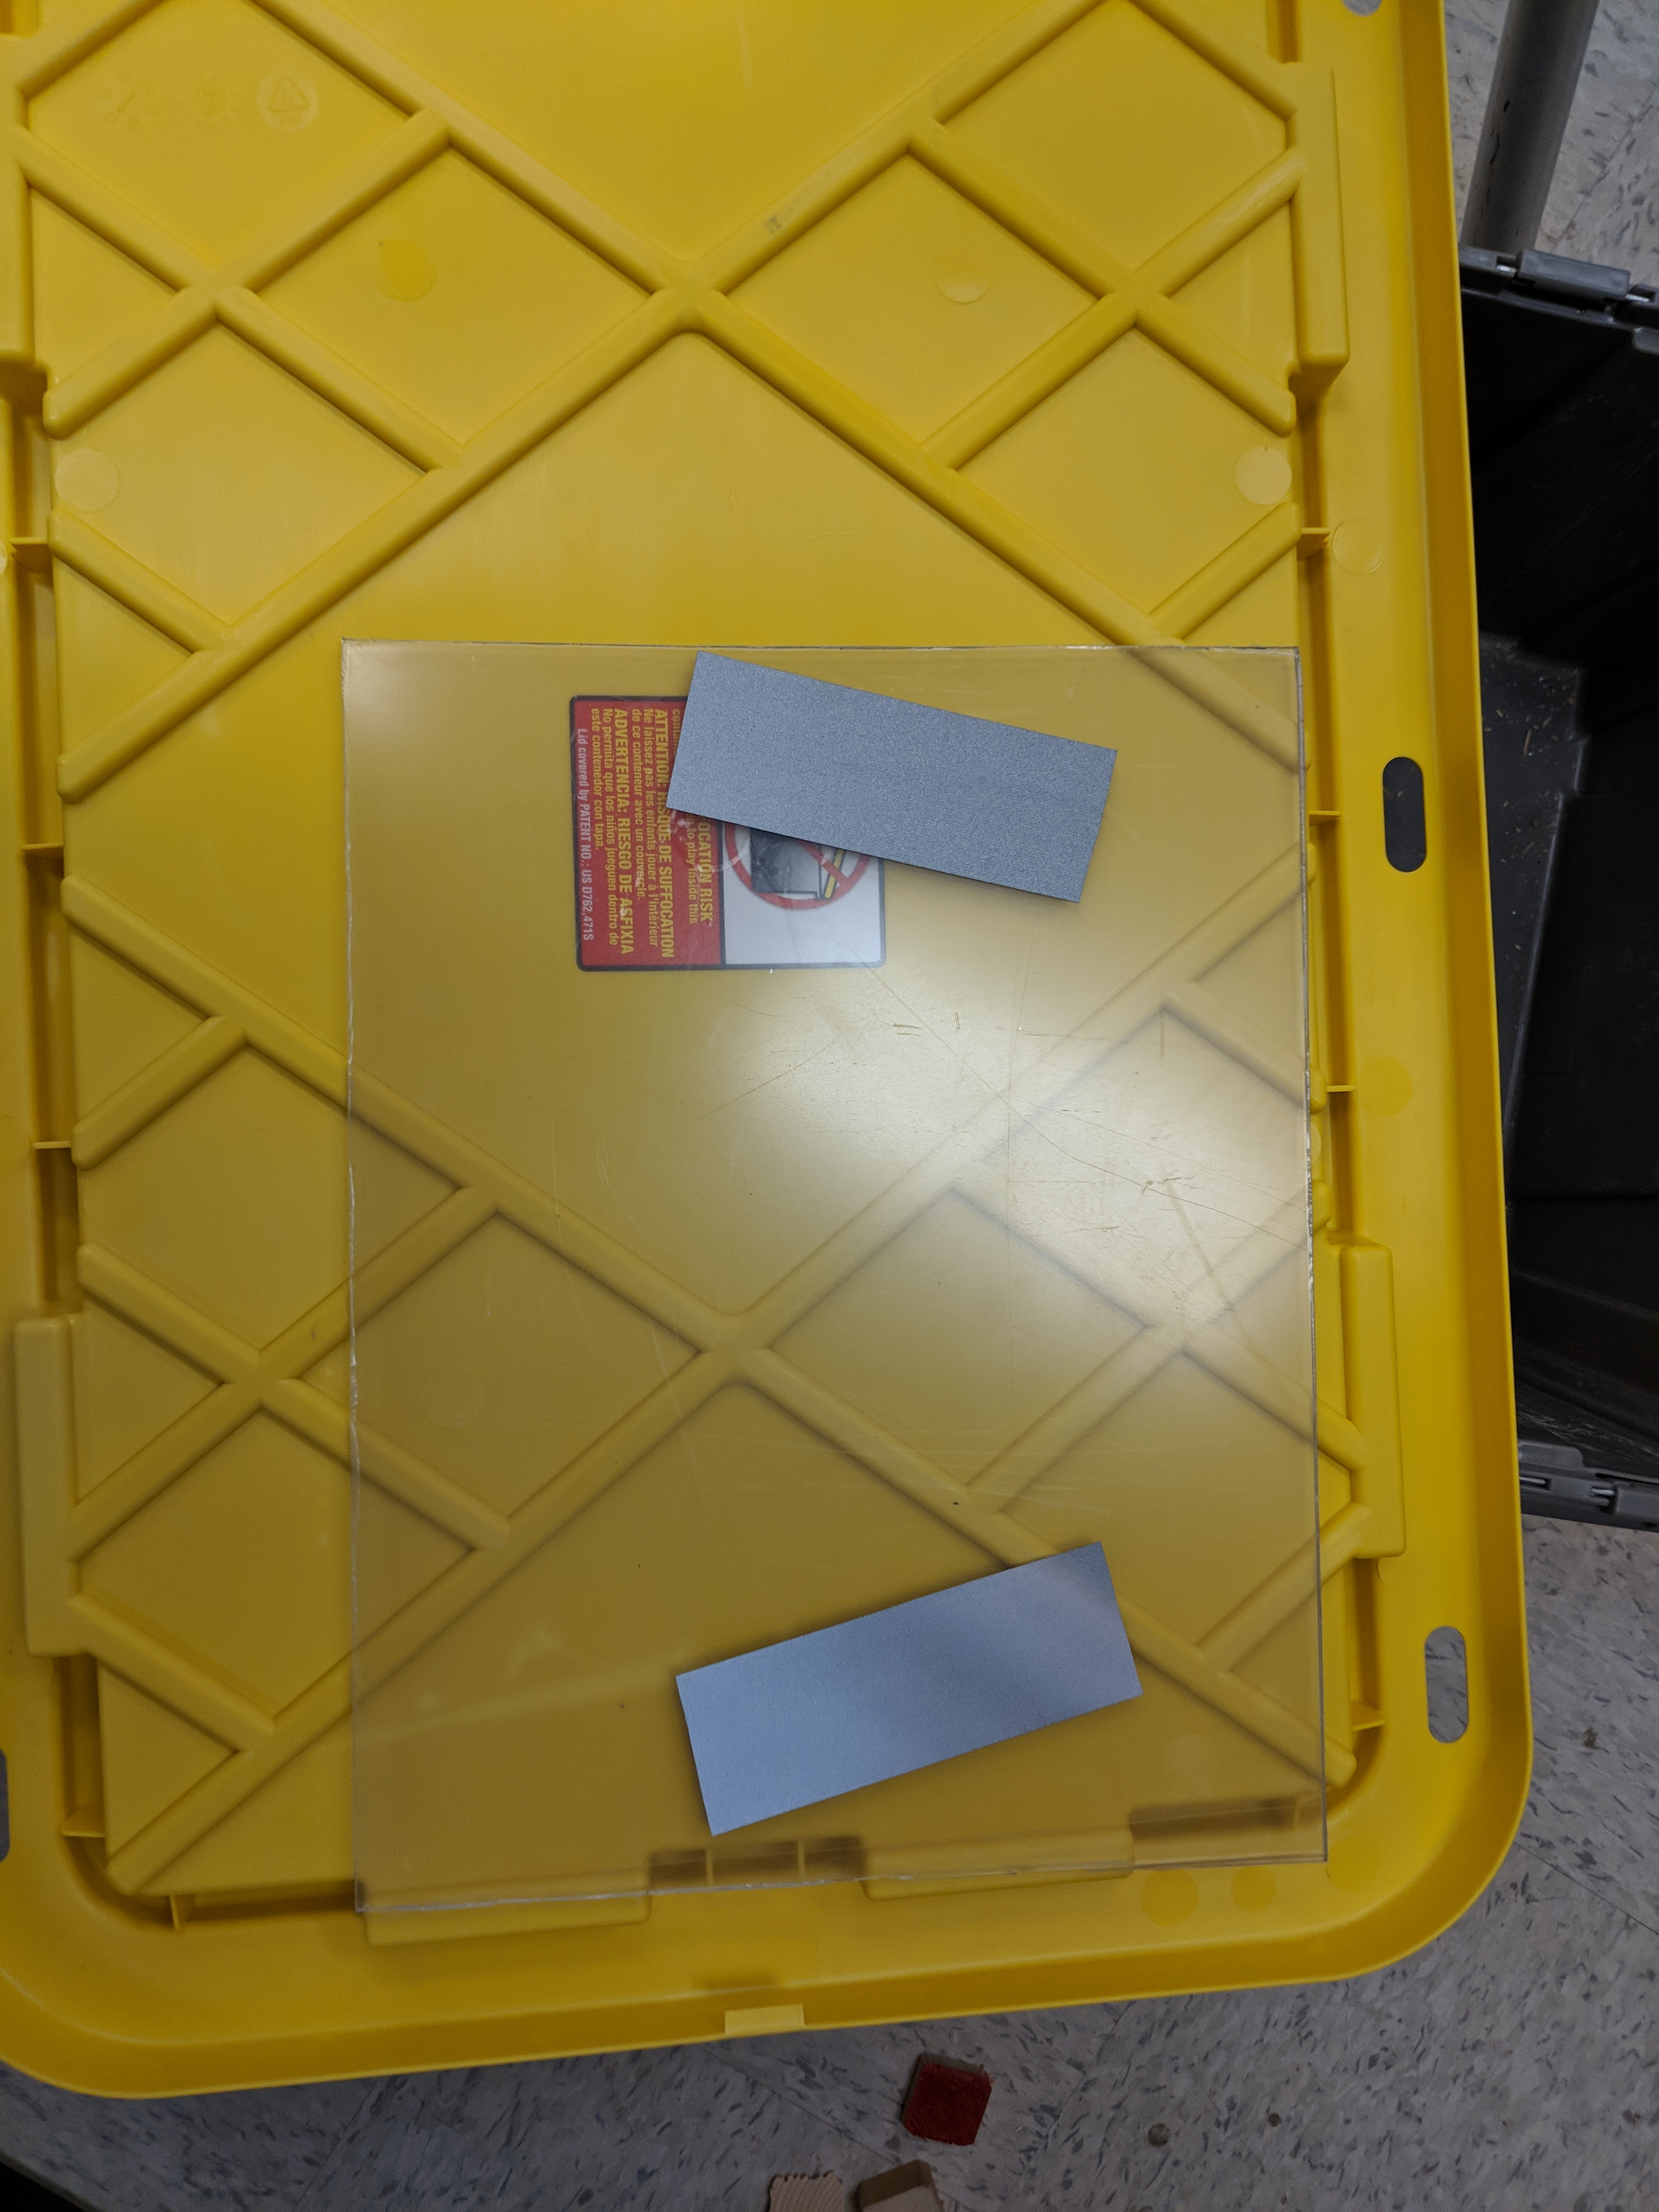vision_target: (645, 648, 1175, 1857)
